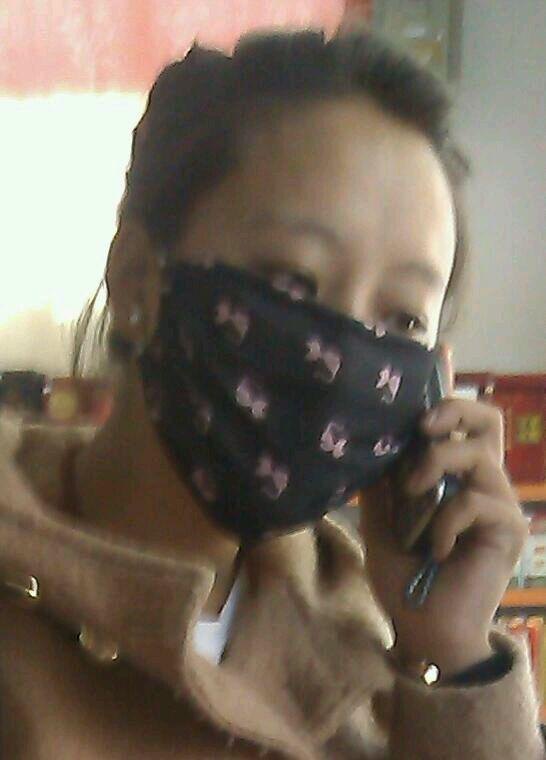OK: (124, 212, 443, 529)
